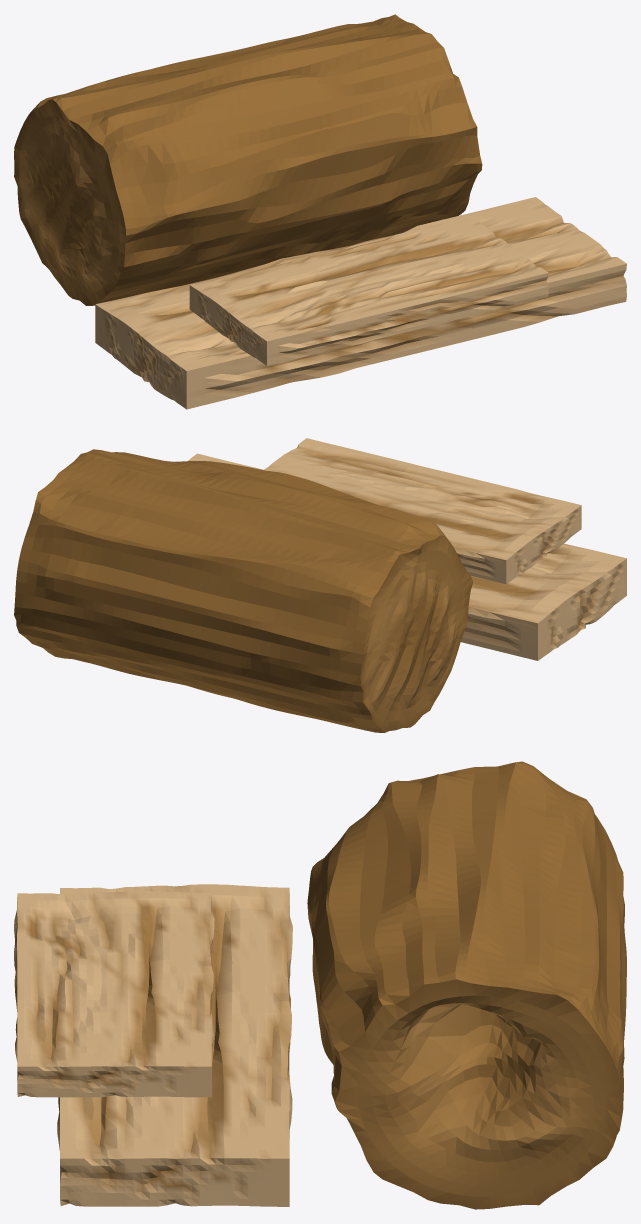
The model's file is wood.glb.
3 views of the same model, one above another, from view 1: azimuth 30°, elevation 25°; view 2: azimuth 150°, elevation 25°; view 3: azimuth 270°, elevation 25° (orthographic). The views are drawn at different scales.
Visible parts, largest first — view 1: Cylinder, Box 1, Box; view 2: Cylinder, Box 1, Box; view 3: Cylinder, Box, Box 1.
Part boxes in pixels (box(x1,y1,x2,y2)): Cylinder: box(14, 14, 482, 305); Box 1: box(189, 216, 548, 365); Box: box(95, 197, 626, 409); Cylinder: box(14, 449, 472, 732); Box 1: box(263, 438, 581, 584); Box: box(188, 453, 626, 660); Cylinder: box(307, 761, 626, 1209); Box: box(57, 884, 292, 1206); Box 1: box(14, 891, 214, 1097).
Size of the model in its own units: 0.5992 by 0.2564 by 0.5718.
